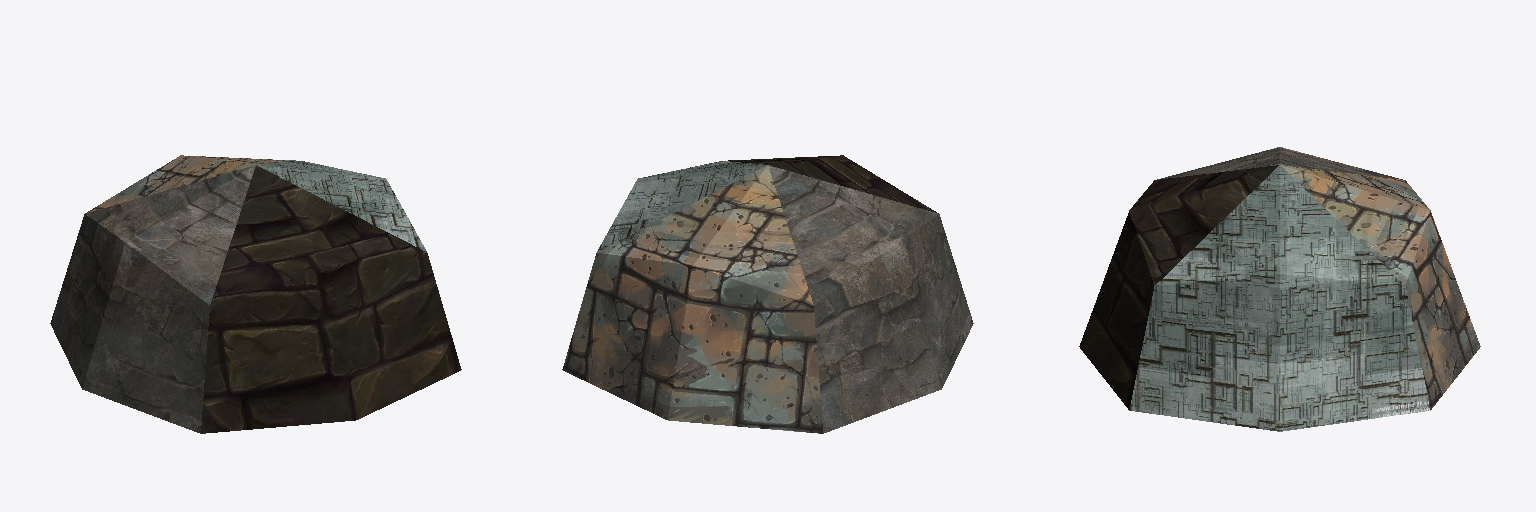
3 renders of one model, left to right at view 1: azimuth 30°, elevation 25°; view 2: azimuth 150°, elevation 25°; view 3: azimuth 270°, elevation 25°, orthographic.
Visible parts, largest first — view 1: Cube; view 2: Cube; view 3: Cube.
Part boxes in pixels (x1,y1,x2,y2): Cube: (50,155,461,433); Cube: (562,155,973,433); Cube: (1079,147,1480,431).
Size of the model in its own units: 16 by 8 by 16.
4 materials, 4 textured.